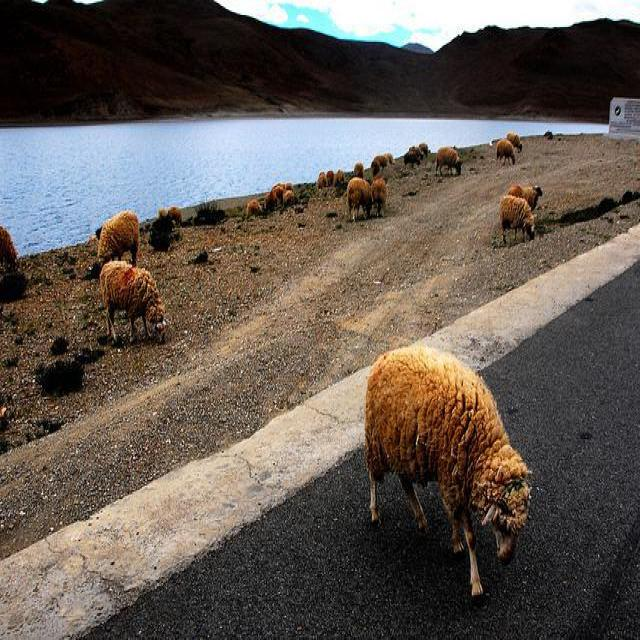Sheep: (1, 141, 429, 264), (365, 343, 531, 601), (100, 259, 166, 345), (98, 210, 140, 265), (497, 196, 537, 248)
